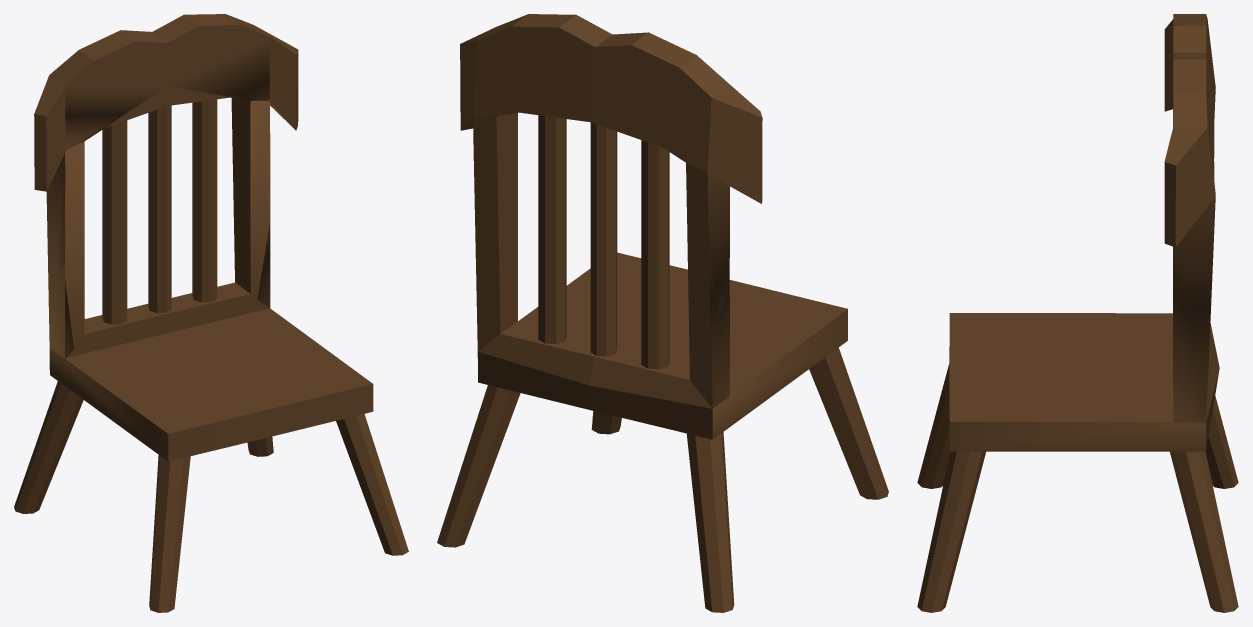
The model's file is chair2-parts.fbx.
3 views of the same model, side by side, from view 1: azimuth 30°, elevation 25°; view 2: azimuth 150°, elevation 25°; view 3: azimuth 270°, elevation 25° (orthographic). The views are drawn at different scales.
Parts seen in each view (by area): view 1: chair, chair.004, chair.003, chair.002, chair.006, chair.001, chair.005, leg1, leg3, leg2; view 2: chair, chair.004, chair.003, chair.002, chair.006, chair.001, chair.005, leg2, leg4, leg1; view 3: chair, chair.004, chair.003, leg3, leg4, leg1, leg2.
Boxes of the visible parts, box(x1,y1,x2,y2) form: chair: box(49, 282, 373, 461); chair.004: box(34, 14, 298, 191); chair.003: box(231, 98, 270, 308); chair.002: box(46, 141, 84, 358); chair.006: box(192, 99, 217, 302); chair.001: box(102, 120, 127, 324); chair.005: box(148, 105, 171, 313); leg1: box(149, 455, 190, 612); leg3: box(336, 414, 408, 555); leg2: box(14, 381, 83, 513); chair: box(477, 252, 847, 439); chair.004: box(460, 14, 762, 203); chair.003: box(473, 113, 517, 350); chair.002: box(686, 163, 729, 408); chair.006: box(538, 115, 566, 343); chair.001: box(641, 140, 669, 369); chair.005: box(590, 122, 617, 356); leg2: box(686, 432, 734, 612); leg4: box(437, 385, 520, 547); leg1: box(809, 347, 888, 499); chair: box(949, 313, 1219, 451); chair.004: box(1164, 14, 1215, 247); chair.003: box(1173, 196, 1215, 422); leg3: box(917, 451, 985, 612); leg4: box(1170, 451, 1238, 612); leg1: box(917, 364, 950, 488); leg2: box(1205, 396, 1238, 488).
Bounding box in the file's own units: 273 × 458 × 265.
